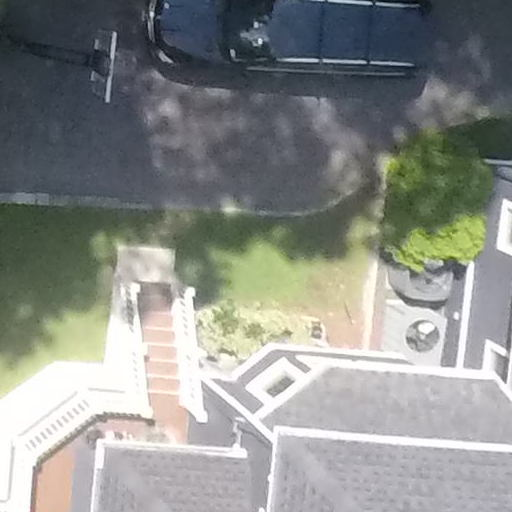air conditioning: (383, 290, 447, 368), (382, 243, 458, 295)
